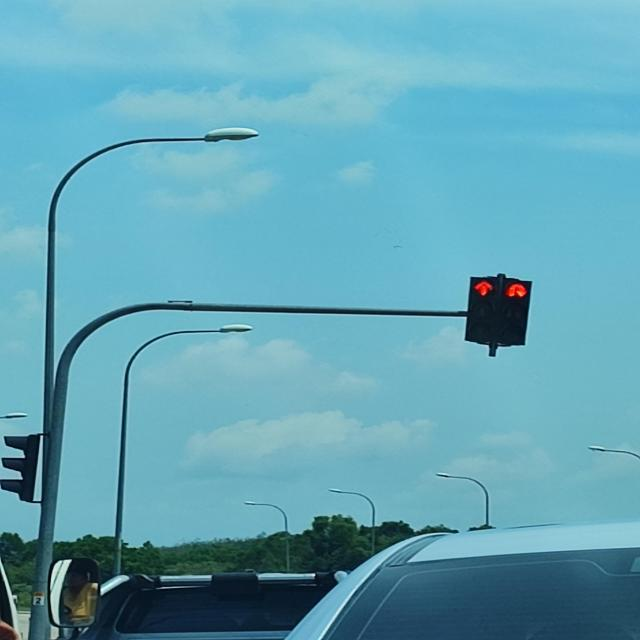red_light: (464, 276, 502, 344), (500, 279, 532, 346)
